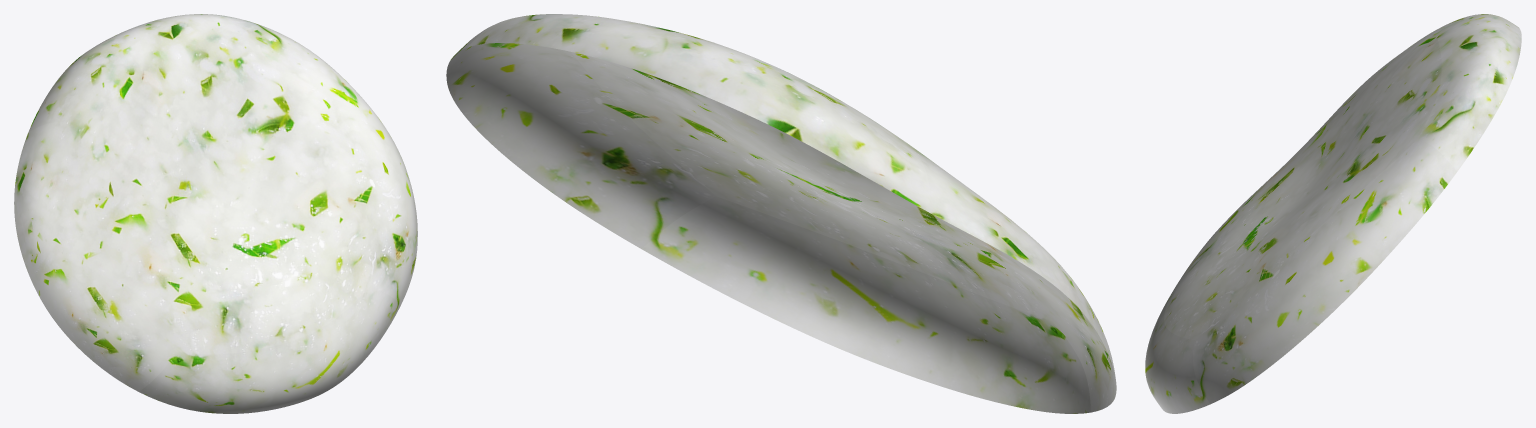
The model's file is only_porridge_for_spoon.FBX.
3 views of the same model, side by side, from view 1: azimuth 30°, elevation 25°; view 2: azimuth 150°, elevation 25°; view 3: azimuth 270°, elevation 25° (orthographic). The views are drawn at different scales.
Visible parts, largest first — view 1: Box003; view 2: Box003; view 3: Box003.
Boxes of the visible parts, x1,y1,x2,y2 form: Box003: [14, 14, 417, 413]; Box003: [446, 14, 1116, 413]; Box003: [1145, 14, 1521, 413].
Bounding box in the file's own units: 20.62 × 15.44 × 14.72.
Materials: 1 (1 with a texture image).
